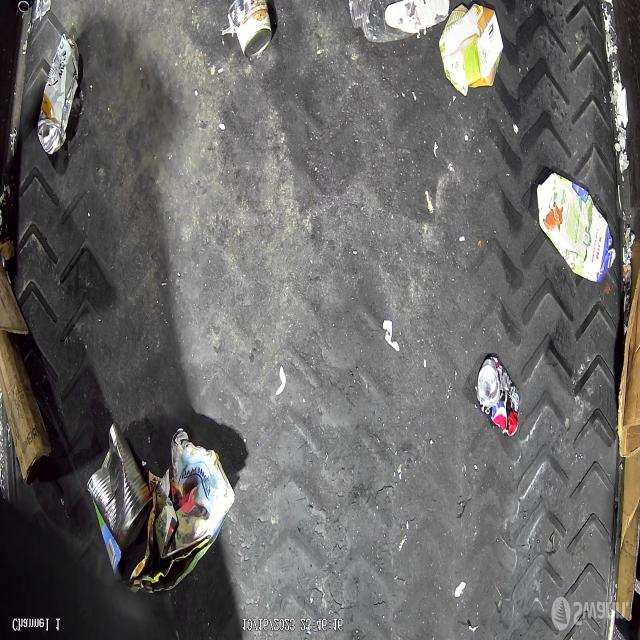can: (86, 428, 150, 558), (37, 32, 79, 156), (477, 354, 520, 436), (228, 0, 272, 57)
non_white_jug: (538, 173, 616, 283), (438, 3, 504, 97)
plastic_bottle: (349, 0, 450, 43)
